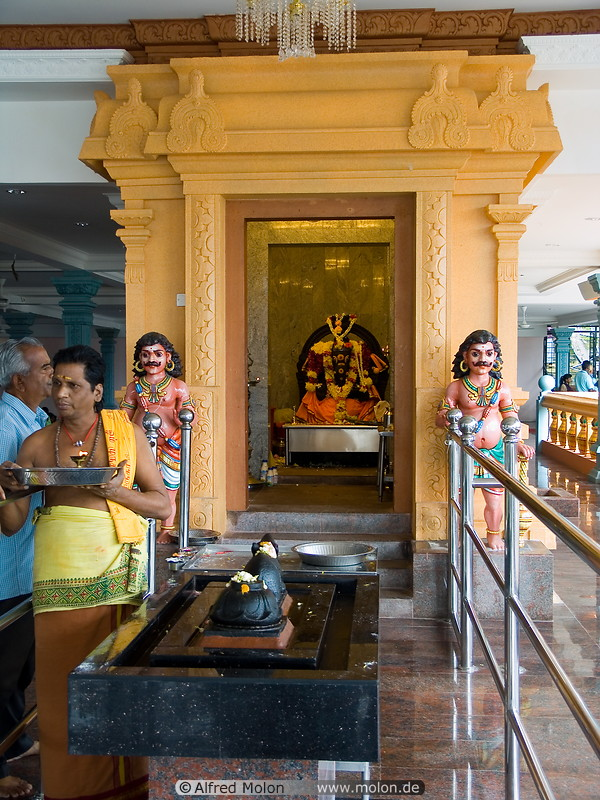Hindu Temple: (124, 57, 530, 504)
